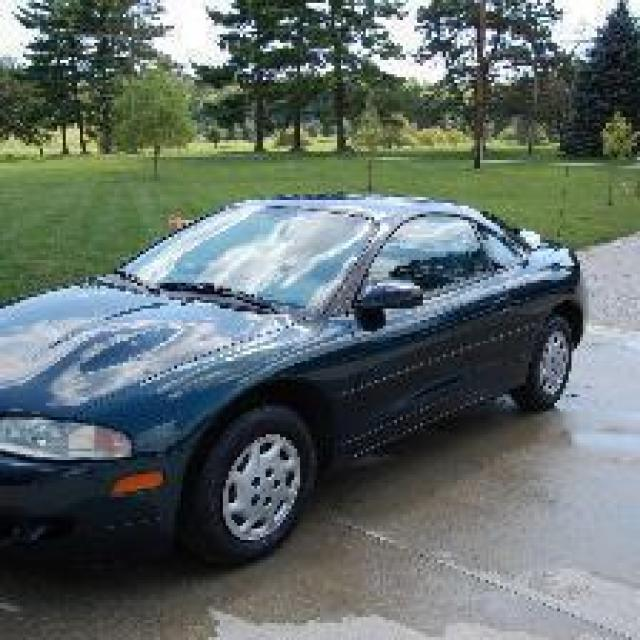damaged: (54, 326, 200, 403)
